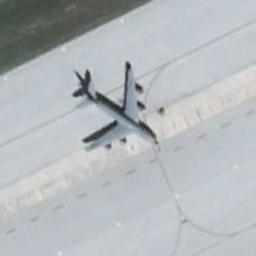Airplane: (71, 60, 160, 152)
